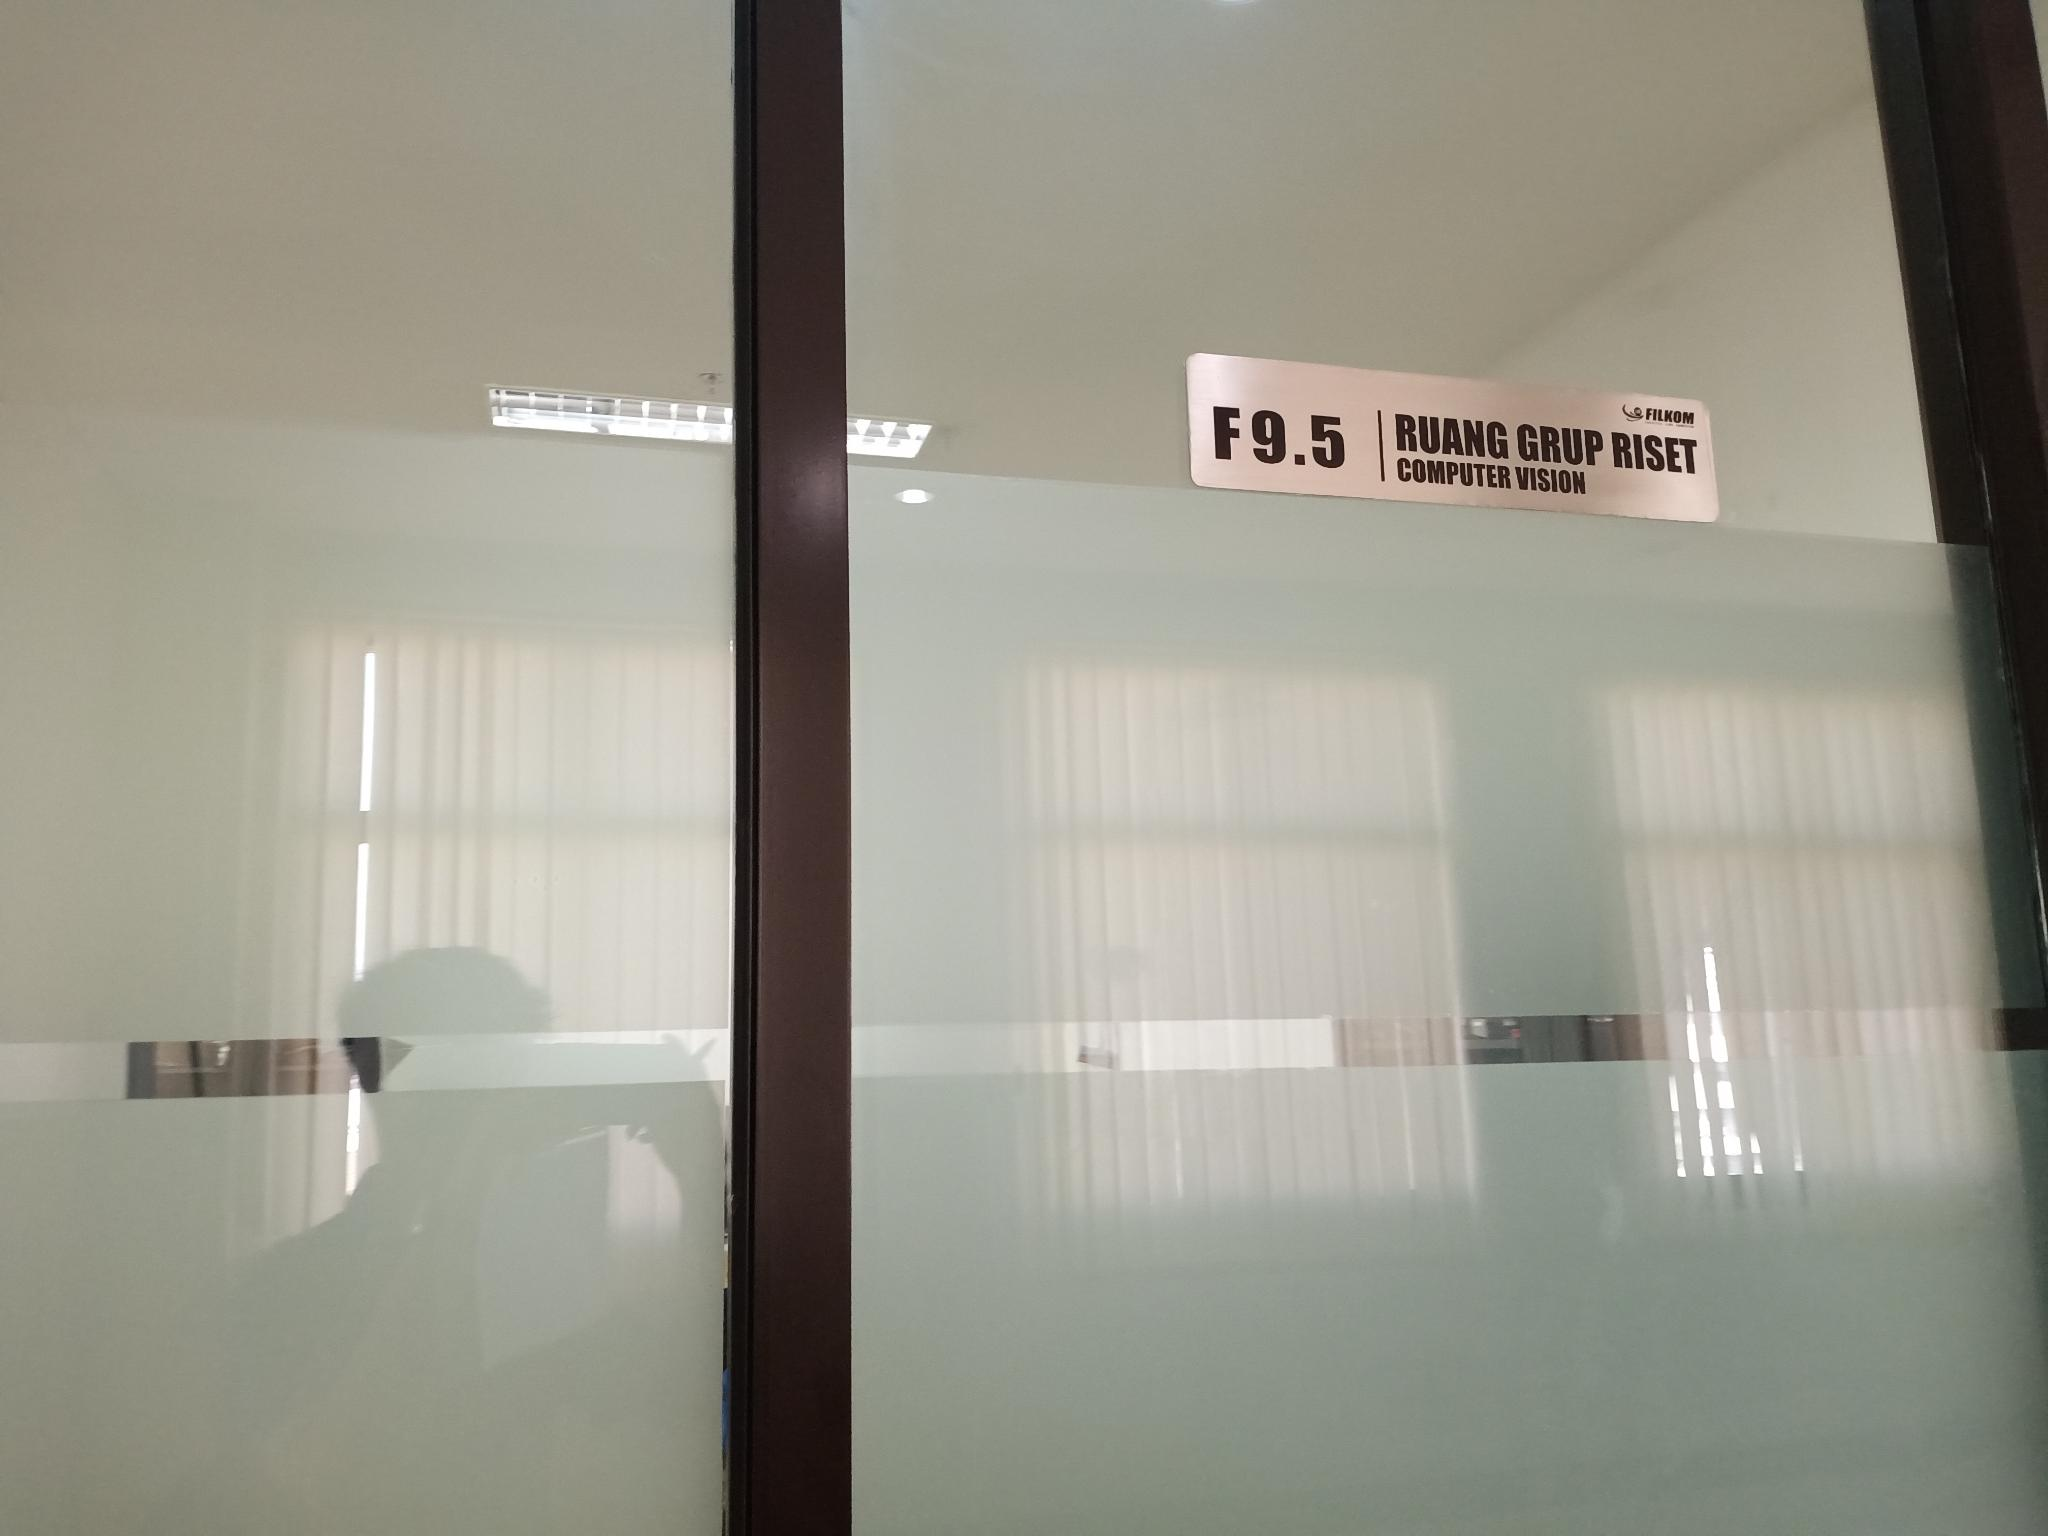plate: (1184, 347, 1721, 532)
